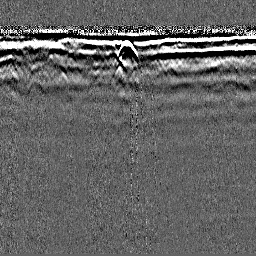cavity: (115, 38, 139, 62)
